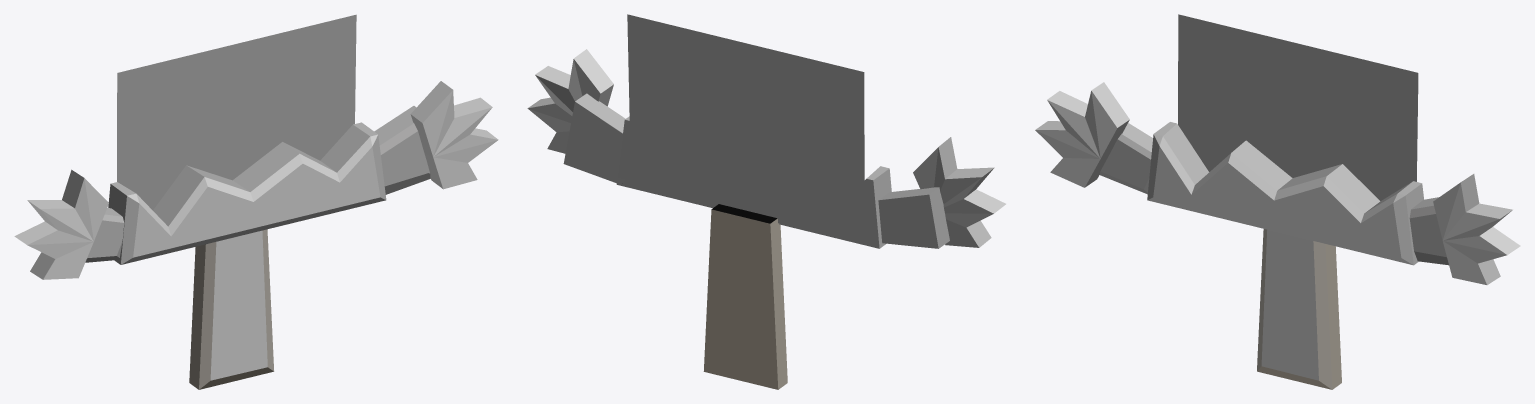
The model's file is yetiSignBottom_0.glb.
The picture shows the model from 3 angles, left to right: view 1: azimuth 30°, elevation 25°; view 2: azimuth 150°, elevation 25°; view 3: azimuth 330°, elevation 25°; orthographic projection.
Parts seen in each view (by area): view 1: yetiSignBottom; view 2: yetiSignBottom; view 3: yetiSignBottom.
Boxes of the visible parts, left/top/right/bottom form: yetiSignBottom: left=14, top=14, right=498, bottom=389; yetiSignBottom: left=527, top=14, right=1005, bottom=389; yetiSignBottom: left=1035, top=14, right=1520, bottom=389.
Bounding box in the file's own units: 1.93 × 1.31 × 0.2528.
